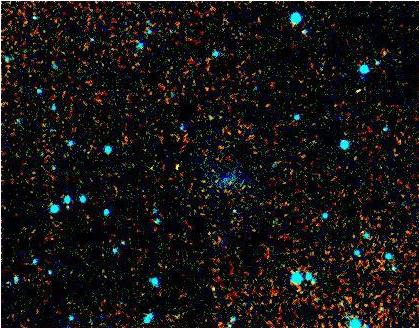star: (162, 148, 192, 178)
